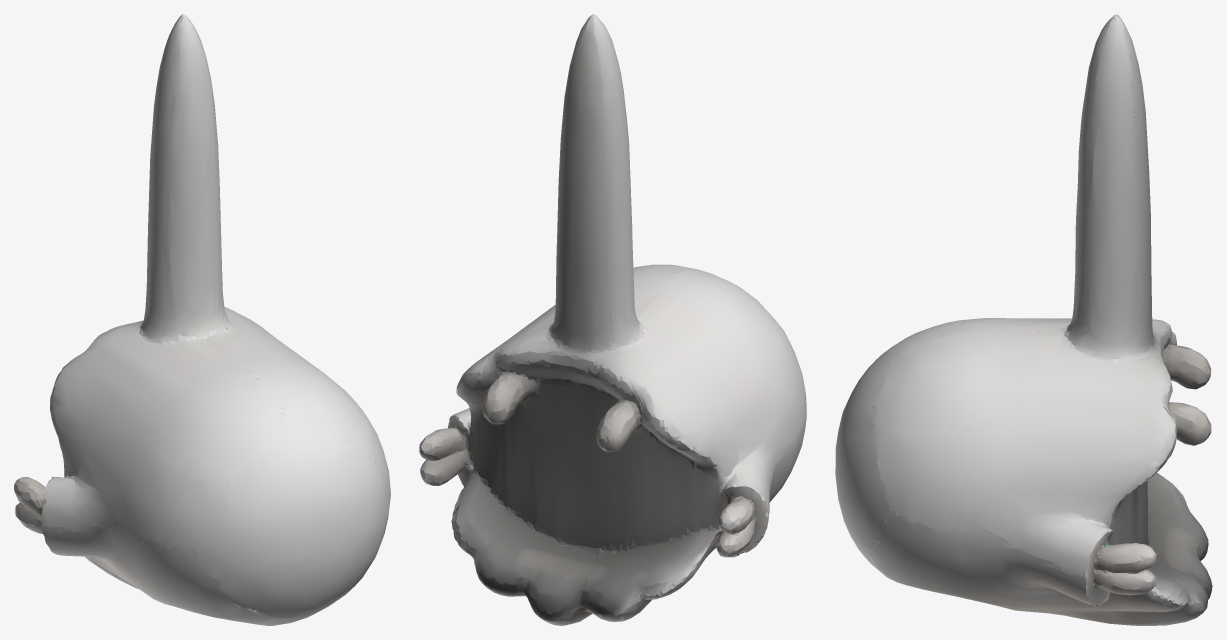
Rendered from voxel_ghost.glb.
3 views of the same model, side by side, from view 1: azimuth 30°, elevation 25°; view 2: azimuth 150°, elevation 25°; view 3: azimuth 270°, elevation 25° (orthographic). The views are drawn at different scales.
Visible parts, largest first — view 1: BeastGhost; view 2: BeastGhost; view 3: BeastGhost.
Part boxes in pixels (x1,y1,x2,y2): BeastGhost: [14, 14, 390, 625]; BeastGhost: [419, 14, 806, 625]; BeastGhost: [835, 14, 1212, 625].
Size of the model in its own units: 1.08 by 1.89 by 1.08.
1 material, 1 textured.
